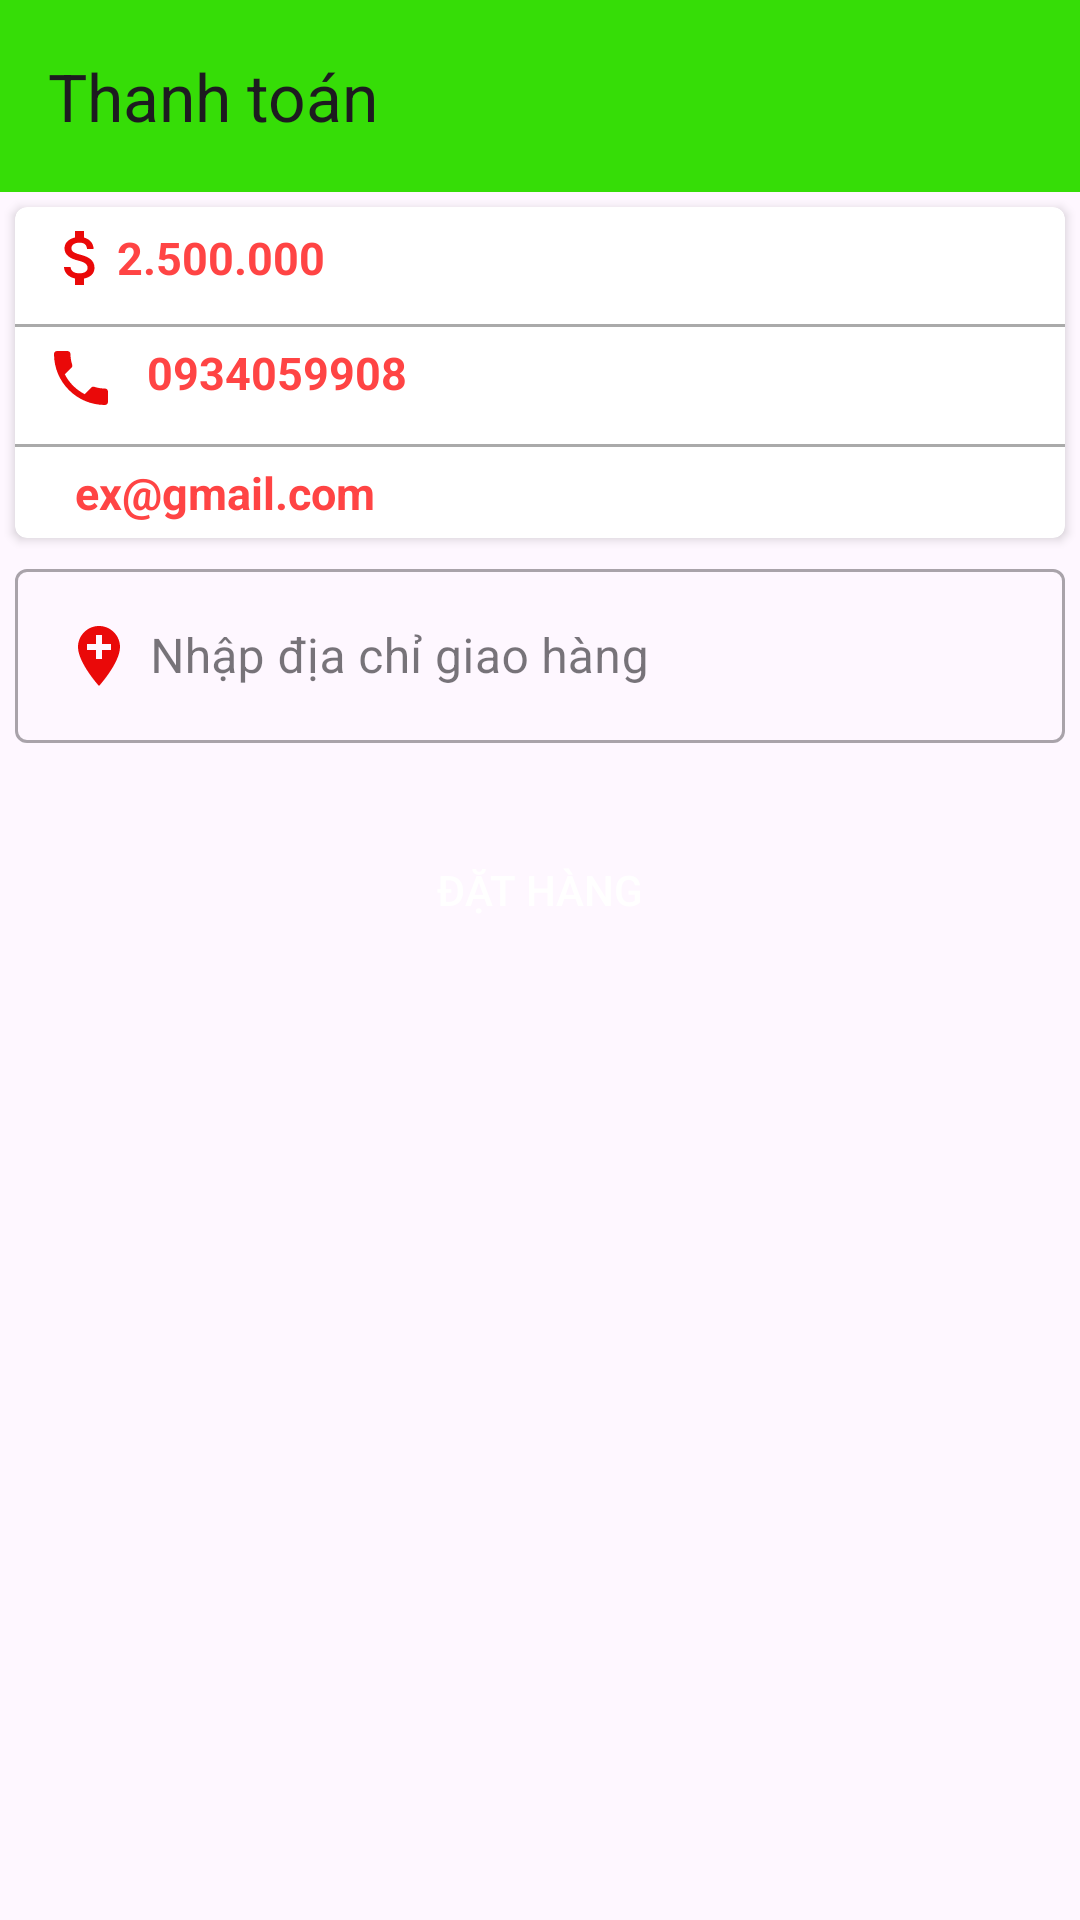

Locate icon controls on the screen. Image size 1080×1920, boxes as (x1, y1, x2, y2).
attach money: (64, 231, 95, 285)
local phone: (54, 351, 108, 405)
